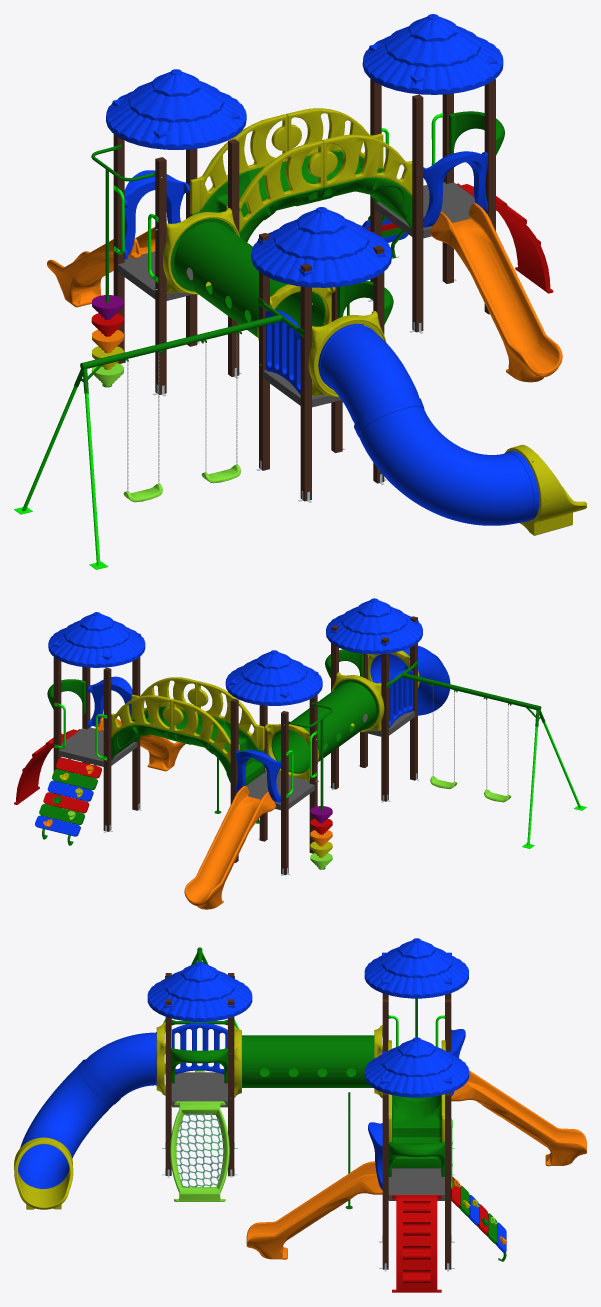
3 views of the same model, one above another, from view 1: azimuth 30°, elevation 25°; view 2: azimuth 150°, elevation 25°; view 3: azimuth 270°, elevation 25° (orthographic). The views are drawn at different scales.
Visible parts, largest first — view 1: DUTO TOBOGA M1.001, TUNEL RETO 2M M3, ESCORREGADOR M6, TOLDO M2.001, TOLDO M2, TOLDO M2.002, MEIO DUTO TOBOGA M5 COM BORDA.001, BOMBEIRO DE DISCO M3, LATERAL M1.003, LATERAL M1.002, LATERAL M1, ESCORREGADOR M6.001 (+29 smaller); view 2: TUNEL RETO 2M M3, ESCORREGADOR M6.001, TOLDO M2.001, TOLDO M2, TOLDO M2.002, BOMBEIRO DE DISCO M3, MEIO DUTO TOBOGA M5 COM BORDA.001, RAMPA DE AGARRA.003, ACESSO M1.001, PRANCHA, LATERAL M1, LATERAL M1.001 (+28 smaller); view 3: TUNEL RETO 2M M3, DUTO TOBOGA M1.001, TOLDO M2.001, TOLDO M2, TOLDO M2.002, ESCALADA M2, MEIO DUTO TOBOGA M5 COM BORDA.001, ESCORREGADOR M6, ESCORREGADOR M6.001, TEIA DE ARANHA M1, ACESSO M1, PONTEIRA M1.001 (+12 smaller).
Part boxes in pixels (x1=…): DUTO TOBOGA M1.001: x1=354, y1=397, x2=539, y2=525; TUNEL RETO 2M M3: x1=163, y1=208, x2=335, y2=344; ESCORREGADOR M6: x1=429, y1=203, x2=562, y2=382; TOLDO M2.001: x1=362, y1=14, x2=503, y2=94; TOLDO M2: x1=106, y1=69, x2=246, y2=149; TOLDO M2.002: x1=251, y1=207, x2=391, y2=287; MEIO DUTO TOBOGA M5 COM BORDA.001: x1=308, y1=311, x2=419, y2=423; BOMBEIRO DE DISCO M3: x1=91, y1=144, x2=155, y2=387; LATERAL M1.003: x1=321, y1=134, x2=412, y2=194; LATERAL M1.002: x1=226, y1=140, x2=323, y2=232; LATERAL M1: x1=190, y1=114, x2=287, y2=213; ESCORREGADOR M6.001: x1=47, y1=227, x2=155, y2=307; TUNEL RETO 2M M3: x1=265, y1=672, x2=384, y2=782; ESCORREGADOR M6.001: x1=184, y1=786, x2=276, y2=909; TOLDO M2.001: x1=48, y1=612, x2=145, y2=667; TOLDO M2: x1=225, y1=650, x2=322, y2=705; TOLDO M2.002: x1=326, y1=598, x2=422, y2=654; BOMBEIRO DE DISCO M3: x1=288, y1=702, x2=332, y2=869; MEIO DUTO TOBOGA M5 COM BORDA.001: x1=367, y1=645, x2=443, y2=697; RAMPA DE AGARRA.003: x1=35, y1=758, x2=97, y2=845; ACESSO M1.001: x1=172, y1=714, x2=264, y2=785; PRANCHA: x1=39, y1=757, x2=101, y2=824; LATERAL M1: x1=172, y1=699, x2=239, y2=762; LATERAL M1.001: x1=111, y1=695, x2=173, y2=736; TUNEL RETO 2M M3: x1=227, y1=1025, x2=382, y2=1098; DUTO TOBOGA M1.001: x1=18, y1=1059, x2=120, y2=1188; TOLDO M2.001: x1=364, y1=1037, x2=469, y2=1097; TOLDO M2: x1=364, y1=938, x2=468, y2=998; TOLDO M2.002: x1=147, y1=961, x2=252, y2=1021; ESCALADA M2: x1=392, y1=1195, x2=441, y2=1292; MEIO DUTO TOBOGA M5 COM BORDA.001: x1=82, y1=1022, x2=165, y2=1100; ESCORREGADOR M6: x1=246, y1=1161, x2=382, y2=1259; ESCORREGADOR M6.001: x1=451, y1=1070, x2=586, y2=1166; TEIA DE ARANHA M1: x1=170, y1=1101, x2=229, y2=1201; ACESSO M1: x1=391, y1=1095, x2=441, y2=1168; PONTEIRA M1.001: x1=14, y1=1137, x2=73, y2=1209.
Bounding box in the file's own units: 7.9 × 3.59 × 8.34.
43 materials, 3 textured.
